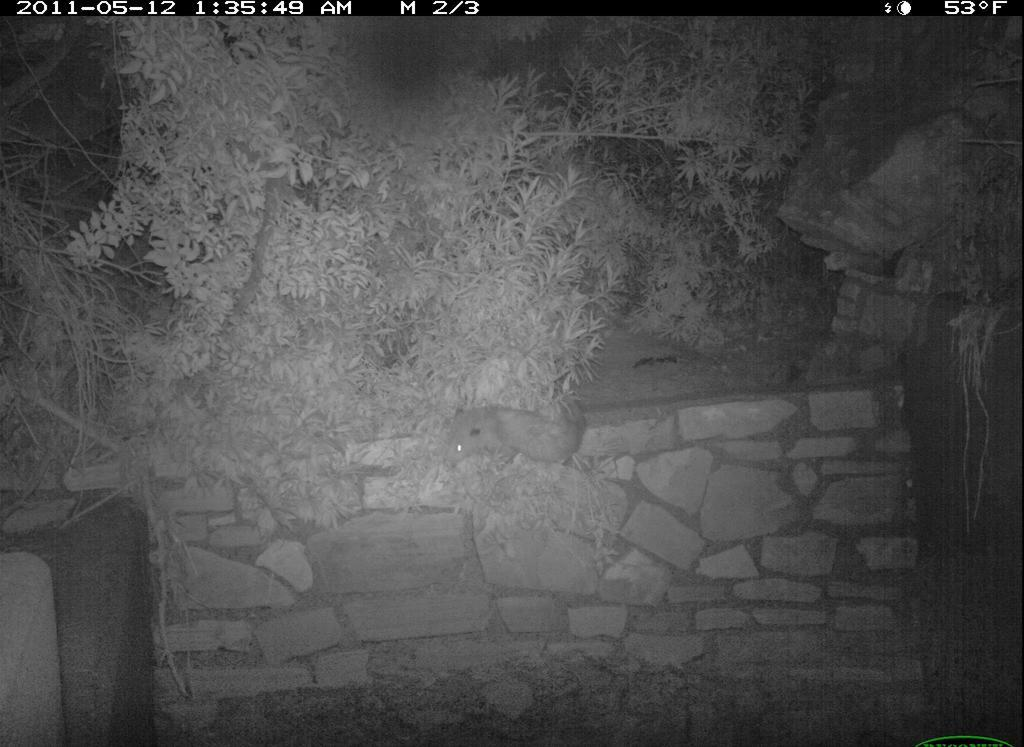opossum: (434, 397, 593, 483)
